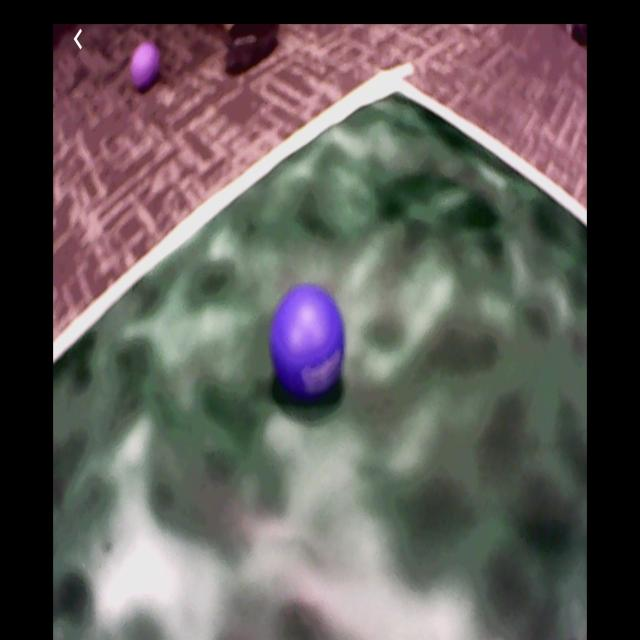ball: (267, 283, 346, 394), (128, 42, 158, 92)
